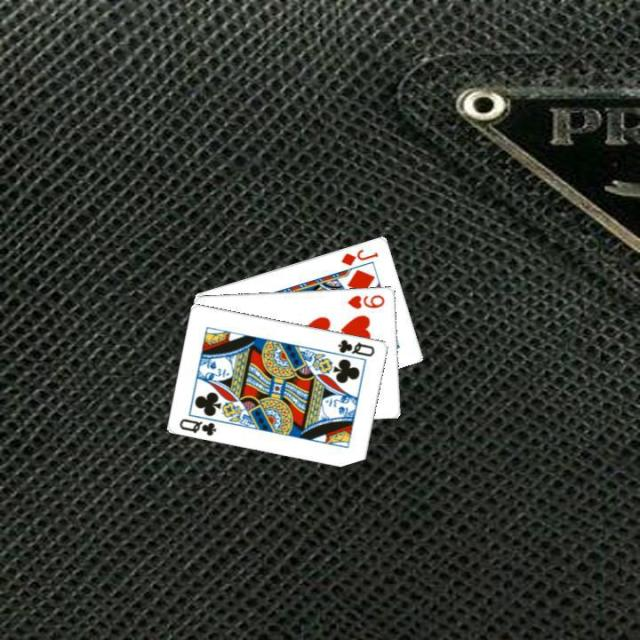9H: (344, 291, 387, 310)
JD: (337, 245, 380, 268)
QC: (176, 414, 219, 438), (334, 335, 377, 358)
